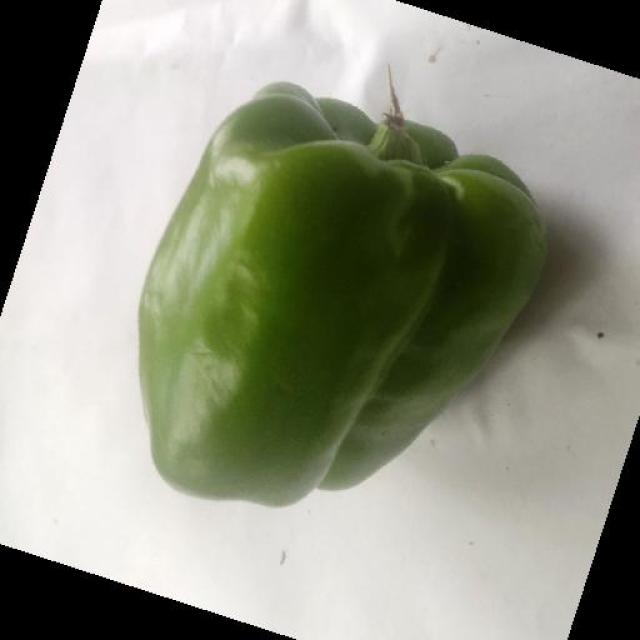Fresh_Capsicum: (160, 96, 517, 495)
